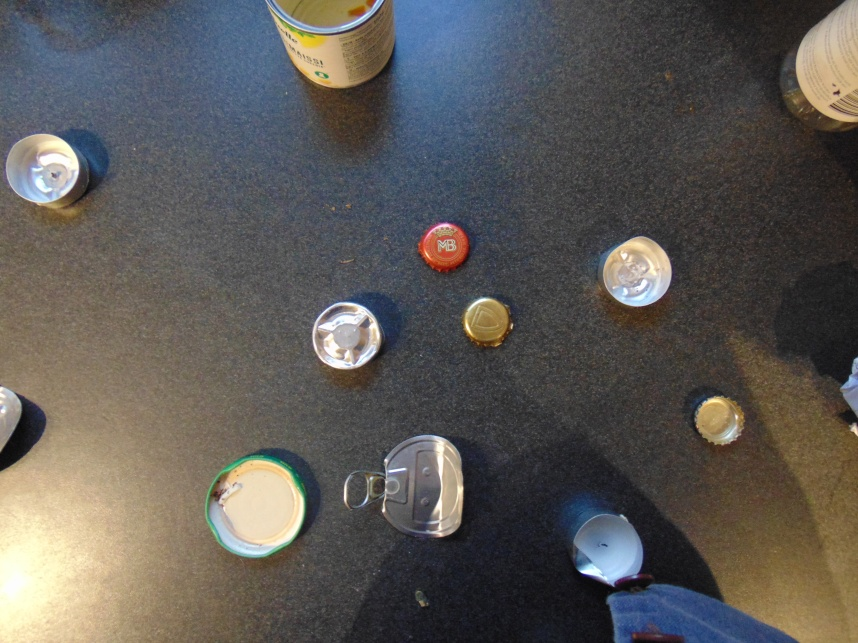metal: (350, 436, 467, 536), (206, 455, 304, 558), (5, 134, 90, 211), (566, 506, 645, 587), (596, 234, 671, 307), (310, 301, 387, 370), (690, 392, 746, 448), (462, 293, 513, 349), (418, 222, 475, 272)
metal_can: (264, 1, 395, 92)
plastic_bottle: (776, 1, 858, 134)
